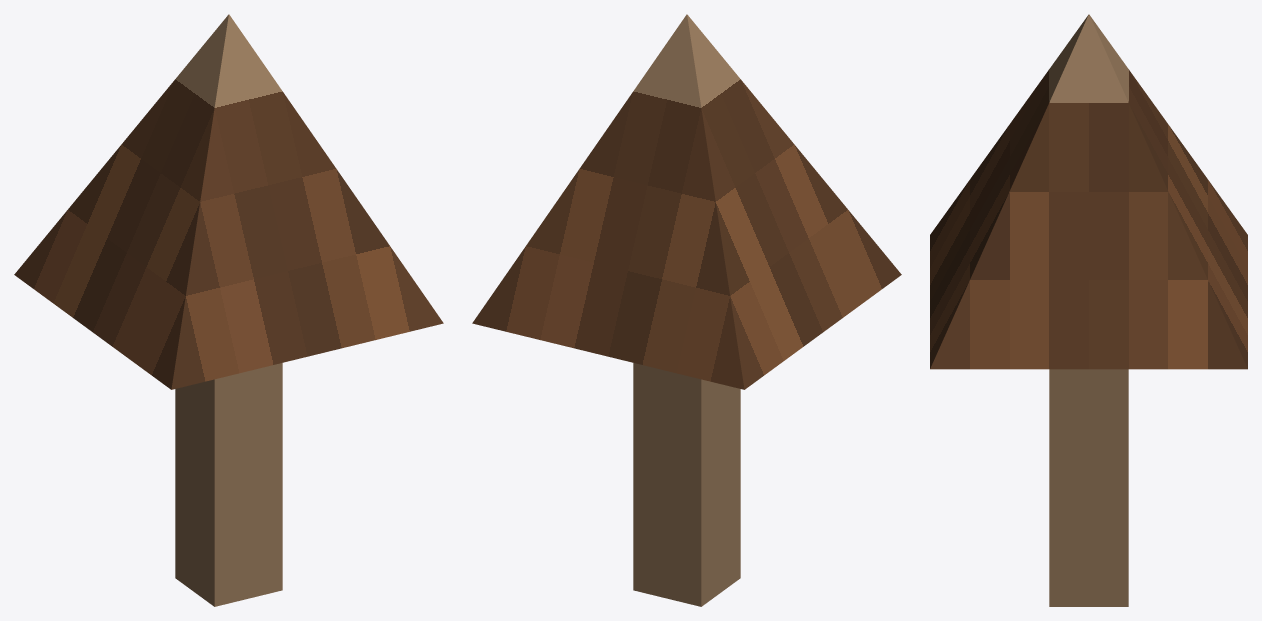
Rendered from brown_umbrella_close_3d.obj.
The picture shows the model from 3 angles, left to right: view 1: azimuth 30°, elevation 25°; view 2: azimuth 150°, elevation 25°; view 3: azimuth 270°, elevation 25°; orthographic projection.
Parts seen in each view (by area): view 1: Cube; view 2: Cube; view 3: Cube.
Part boxes in pixels (box(x1,y1,x2,y2)): Cube: box(14, 14, 443, 606); Cube: box(472, 14, 901, 606); Cube: box(930, 14, 1247, 606).
Bounding box in the file's own units: 0.5 × 1 × 0.5.
